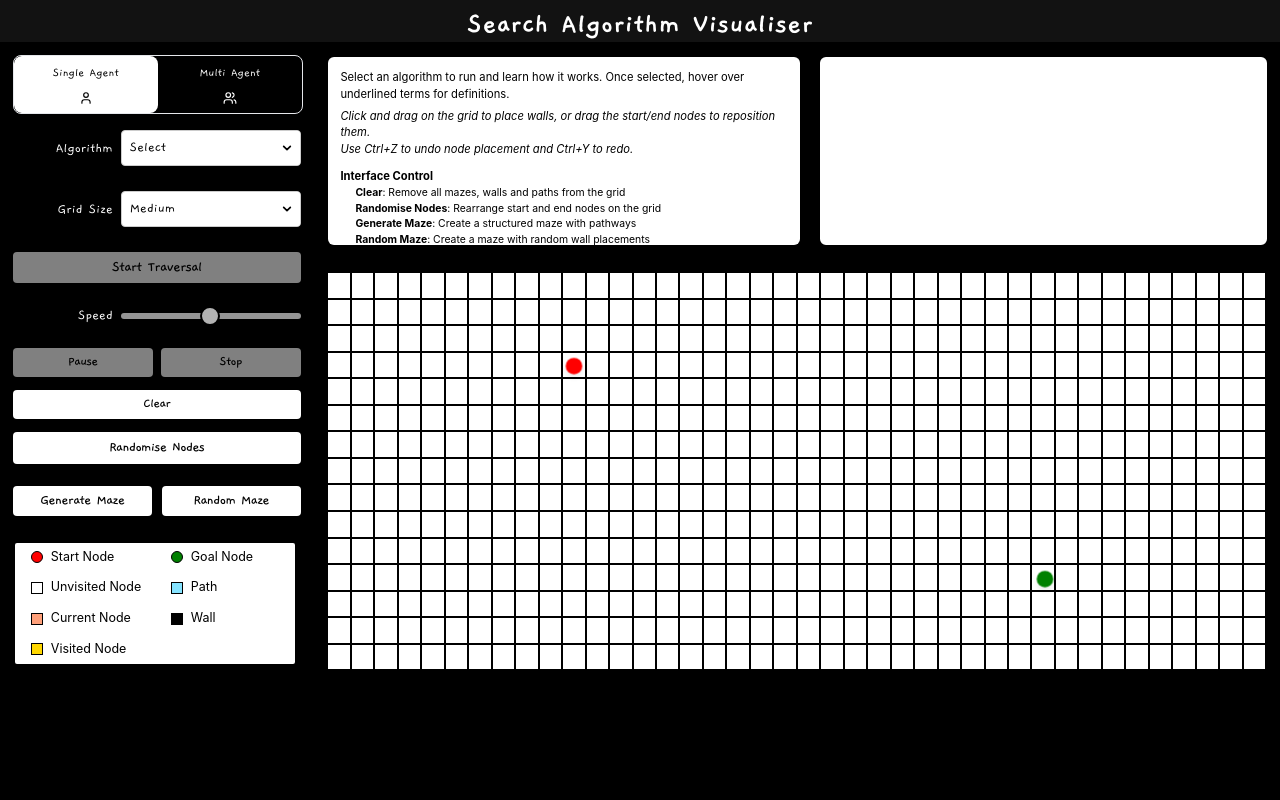
Test: Algorithm Visualizer › Multi-Agent Mode › removes an agent when the Remove Agent button is clicked
expect the header with id "app-header" is shown: met, box [0, 0, 1279, 42]
Step 1. Click the button "Multi Agent" → (230, 85), box [158, 56, 302, 113]
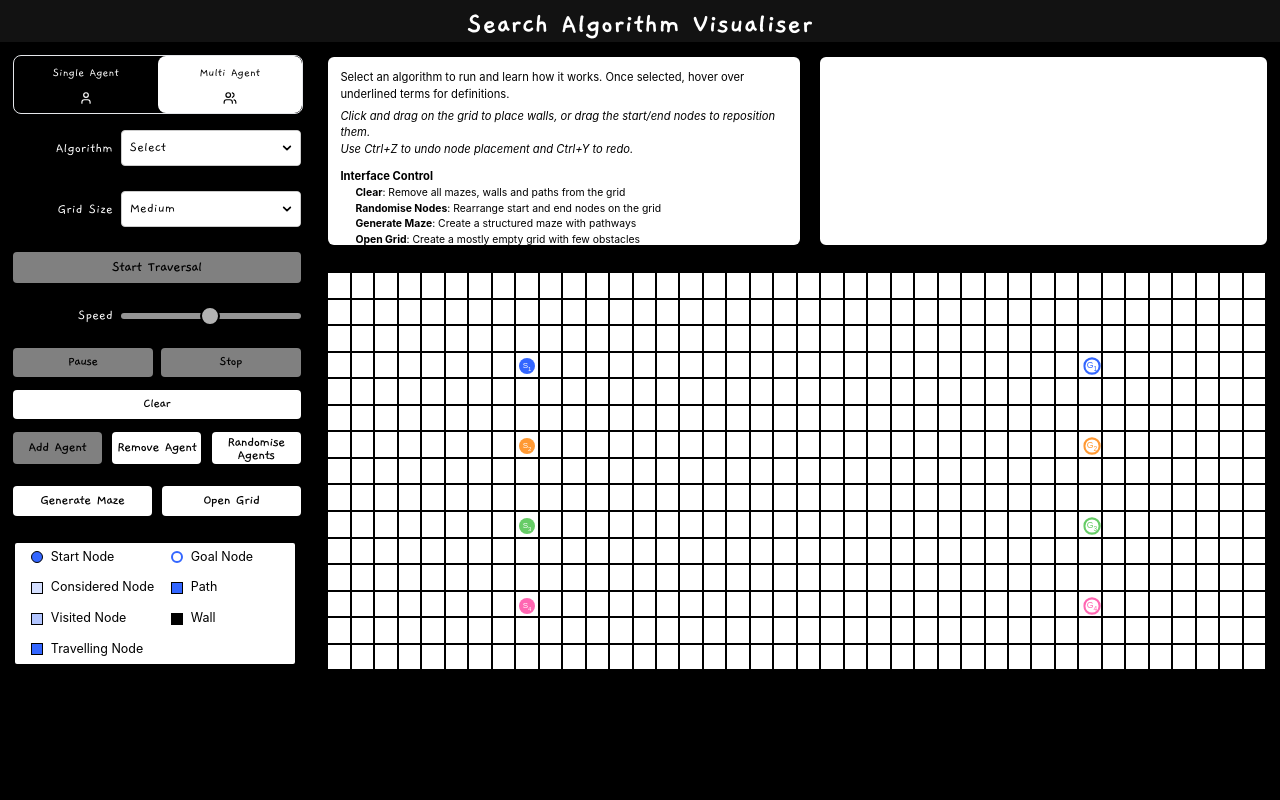
Step 2. Click the button "Remove Agent" → (157, 448), box [112, 432, 201, 464]
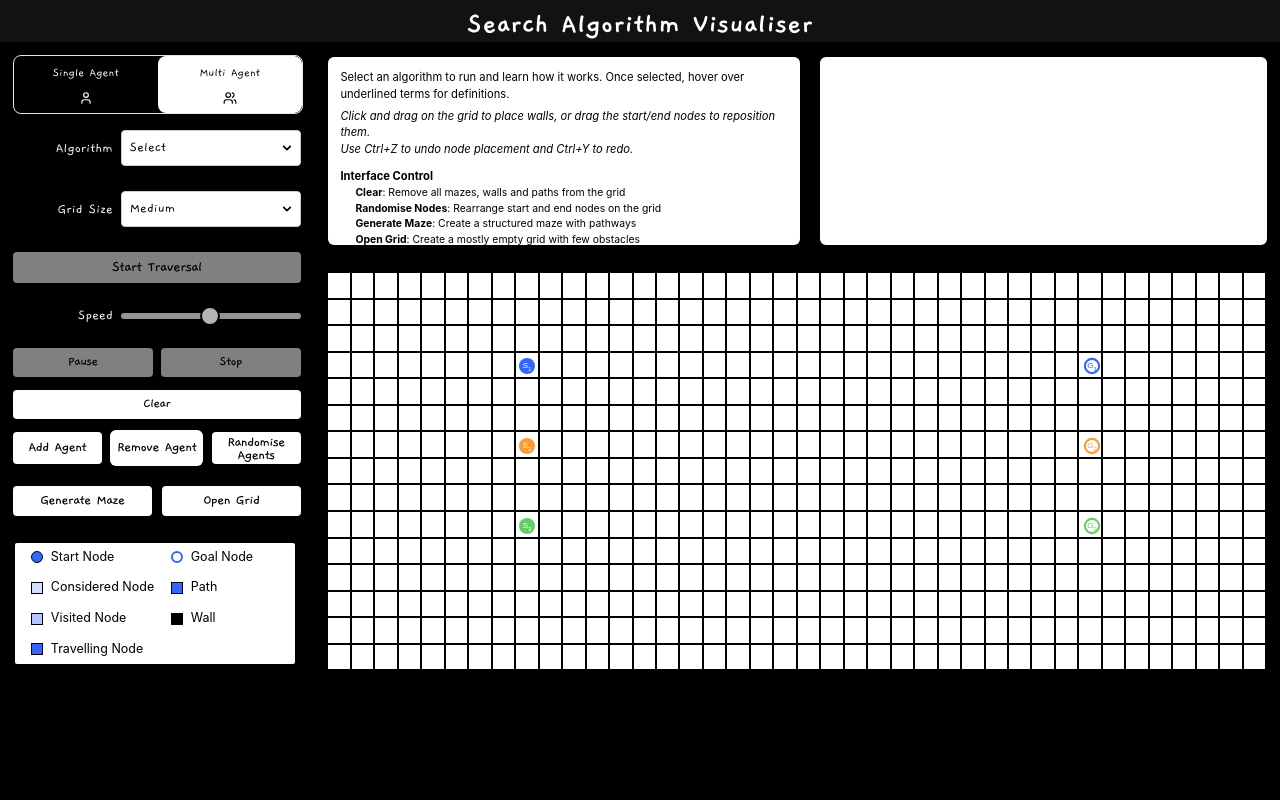
expect the number of elements with class "grid-node" is fewer than 8: met
